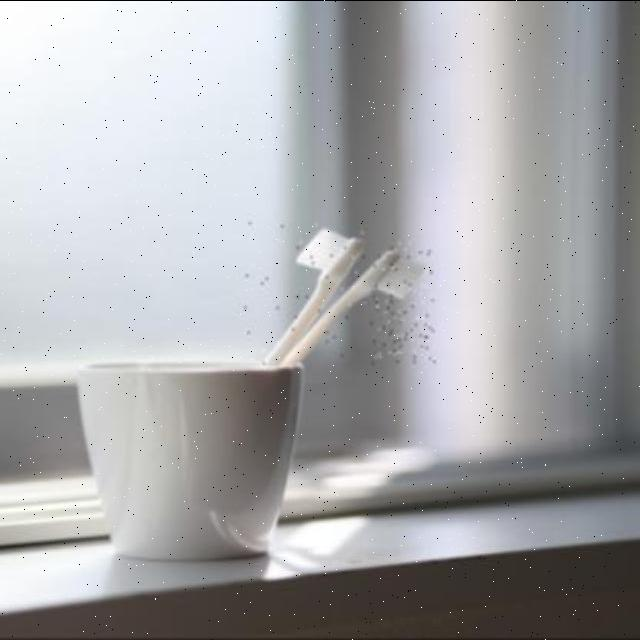toothbrush: (244, 217, 370, 367), (292, 243, 436, 364)
